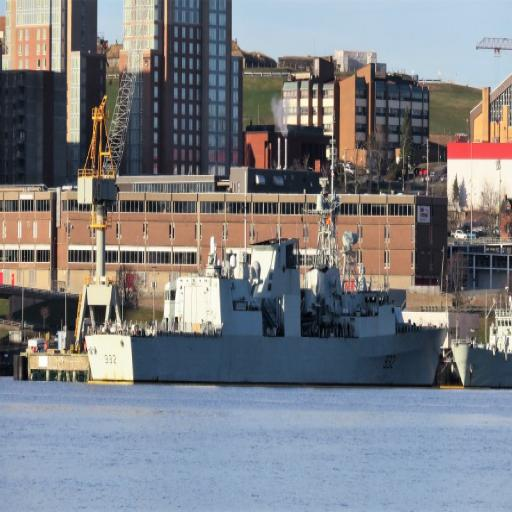Fragata: (81, 172, 452, 394)
